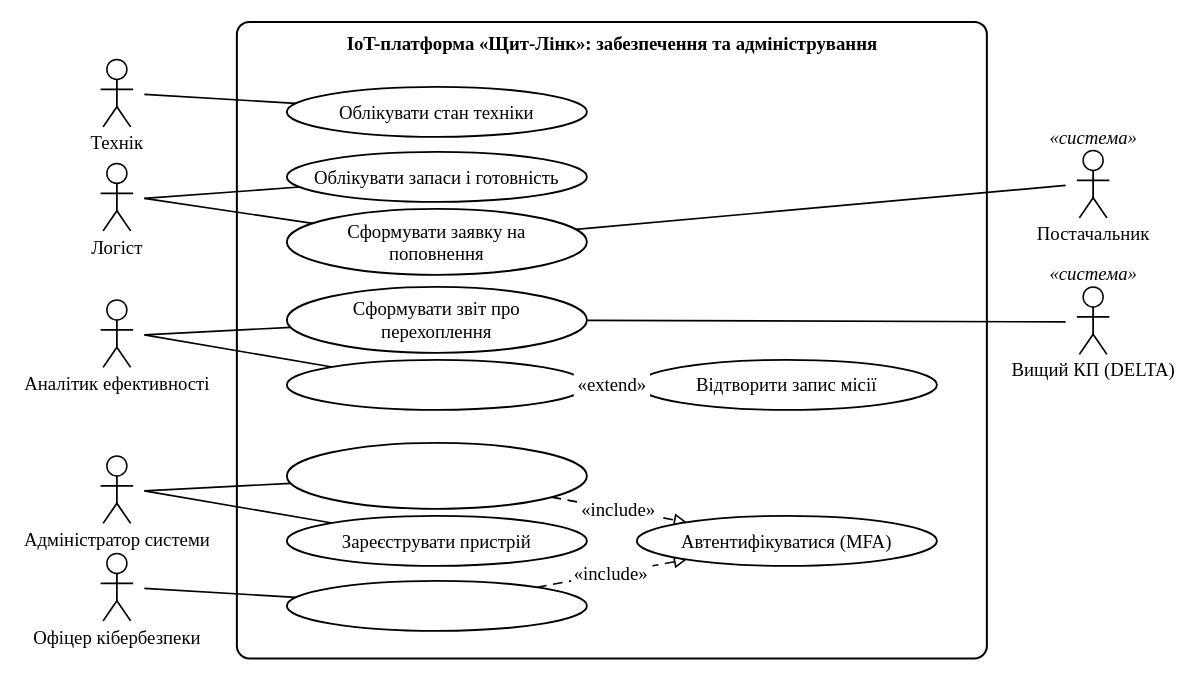
Some shapes in this 1199 by 681 pixel diagram are drawn without their labels. Here are the shapes that lost their labels. From the top down, the centre of each, then its label:
At point 436,384: "Переглянути показники KPI".
At point 436,475: "Керувати користувачами і ролями".
At point 436,605: "Переглянути журнал аудиту".
